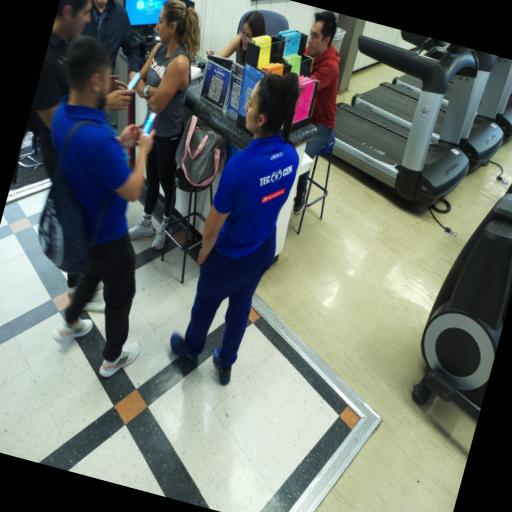person: (171, 73, 299, 384), (52, 36, 154, 376), (129, 0, 200, 249), (25, 0, 91, 178), (26, 0, 92, 178), (27, 0, 92, 178), (305, 11, 339, 158), (83, 0, 140, 82), (217, 11, 265, 66)
